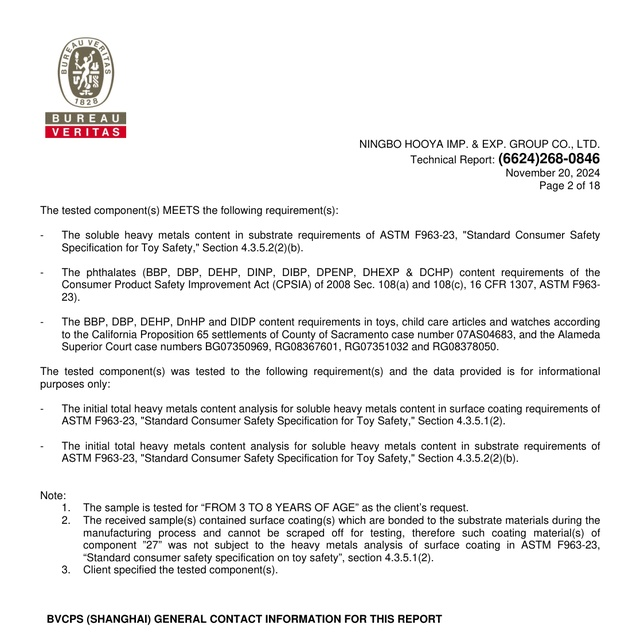bureau_veritas: (44, 36, 132, 140)
